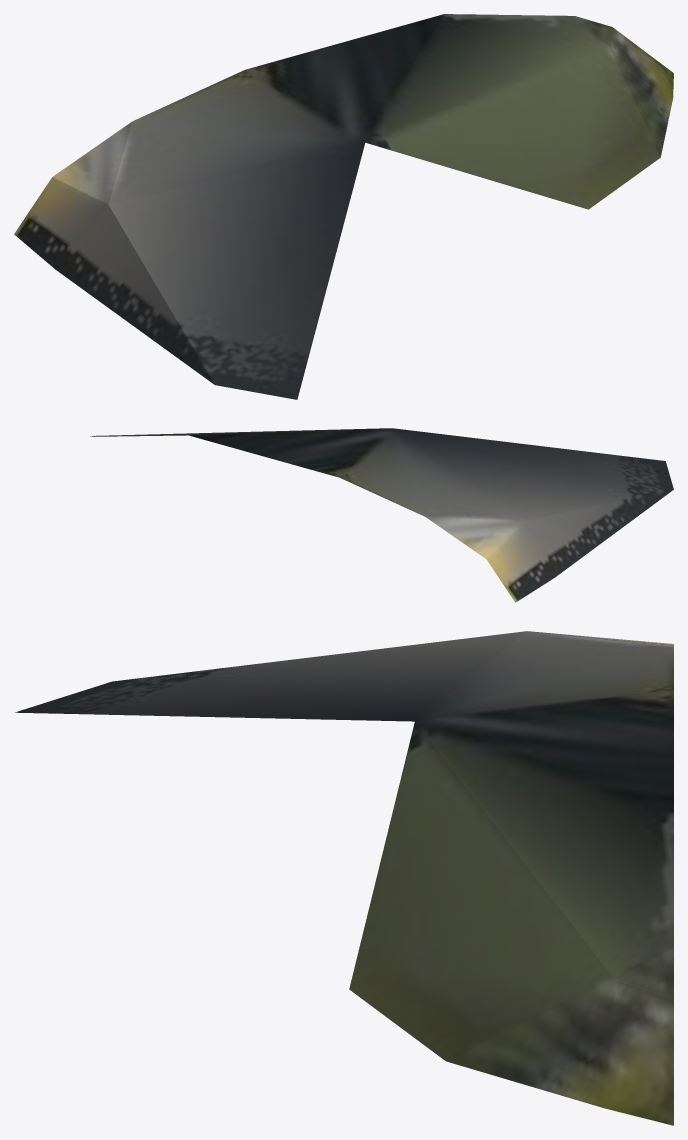
The picture shows the model from 3 angles, top to bottom: view 1: azimuth 30°, elevation 25°; view 2: azimuth 150°, elevation 25°; view 3: azimuth 270°, elevation 25°; orthographic projection. The views are drawn at different scales.
Bounding box in the file's own units: 2.06 × 0.3418 × 1.29.
Materials: 1 (1 with a texture image).
